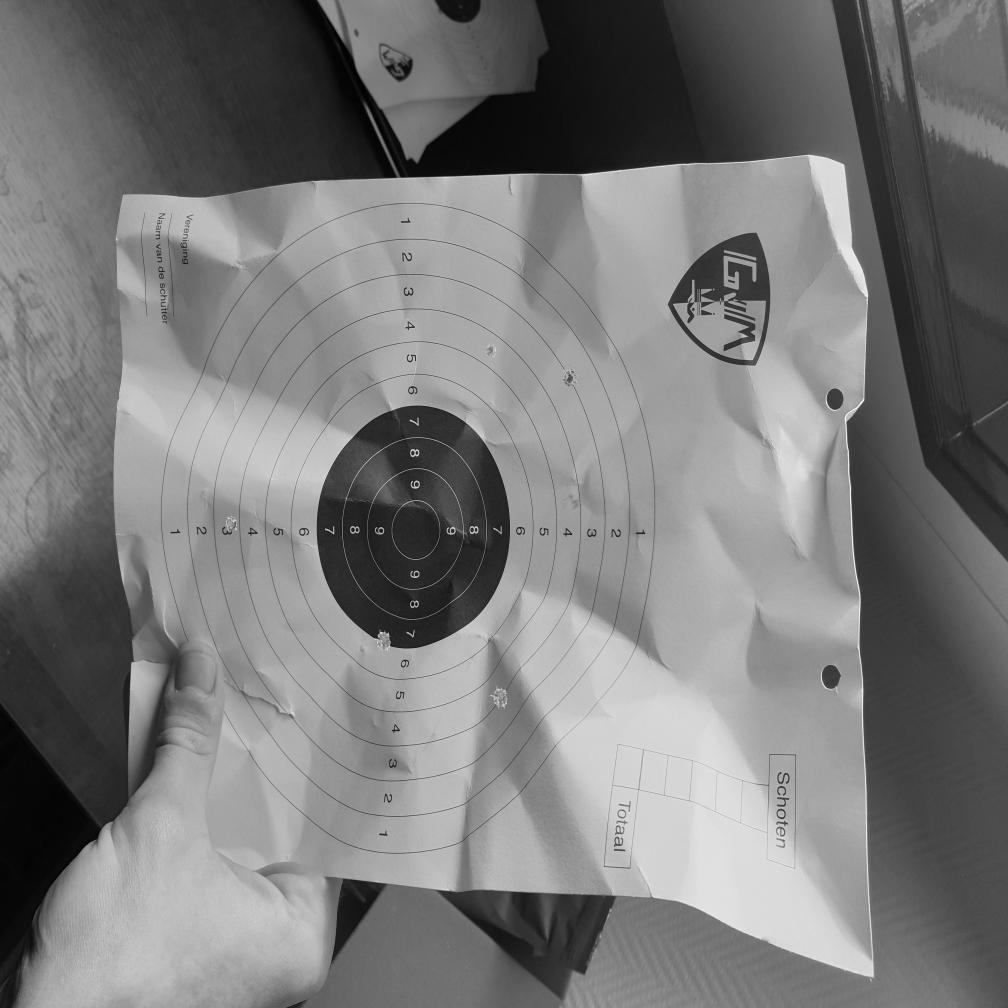3: (562, 367, 580, 389), (225, 515, 238, 534)
4: (493, 688, 508, 709), (486, 343, 497, 358)
7: (377, 631, 391, 652)
Target: (160, 200, 656, 866)
black_contour: (316, 407, 510, 648)
